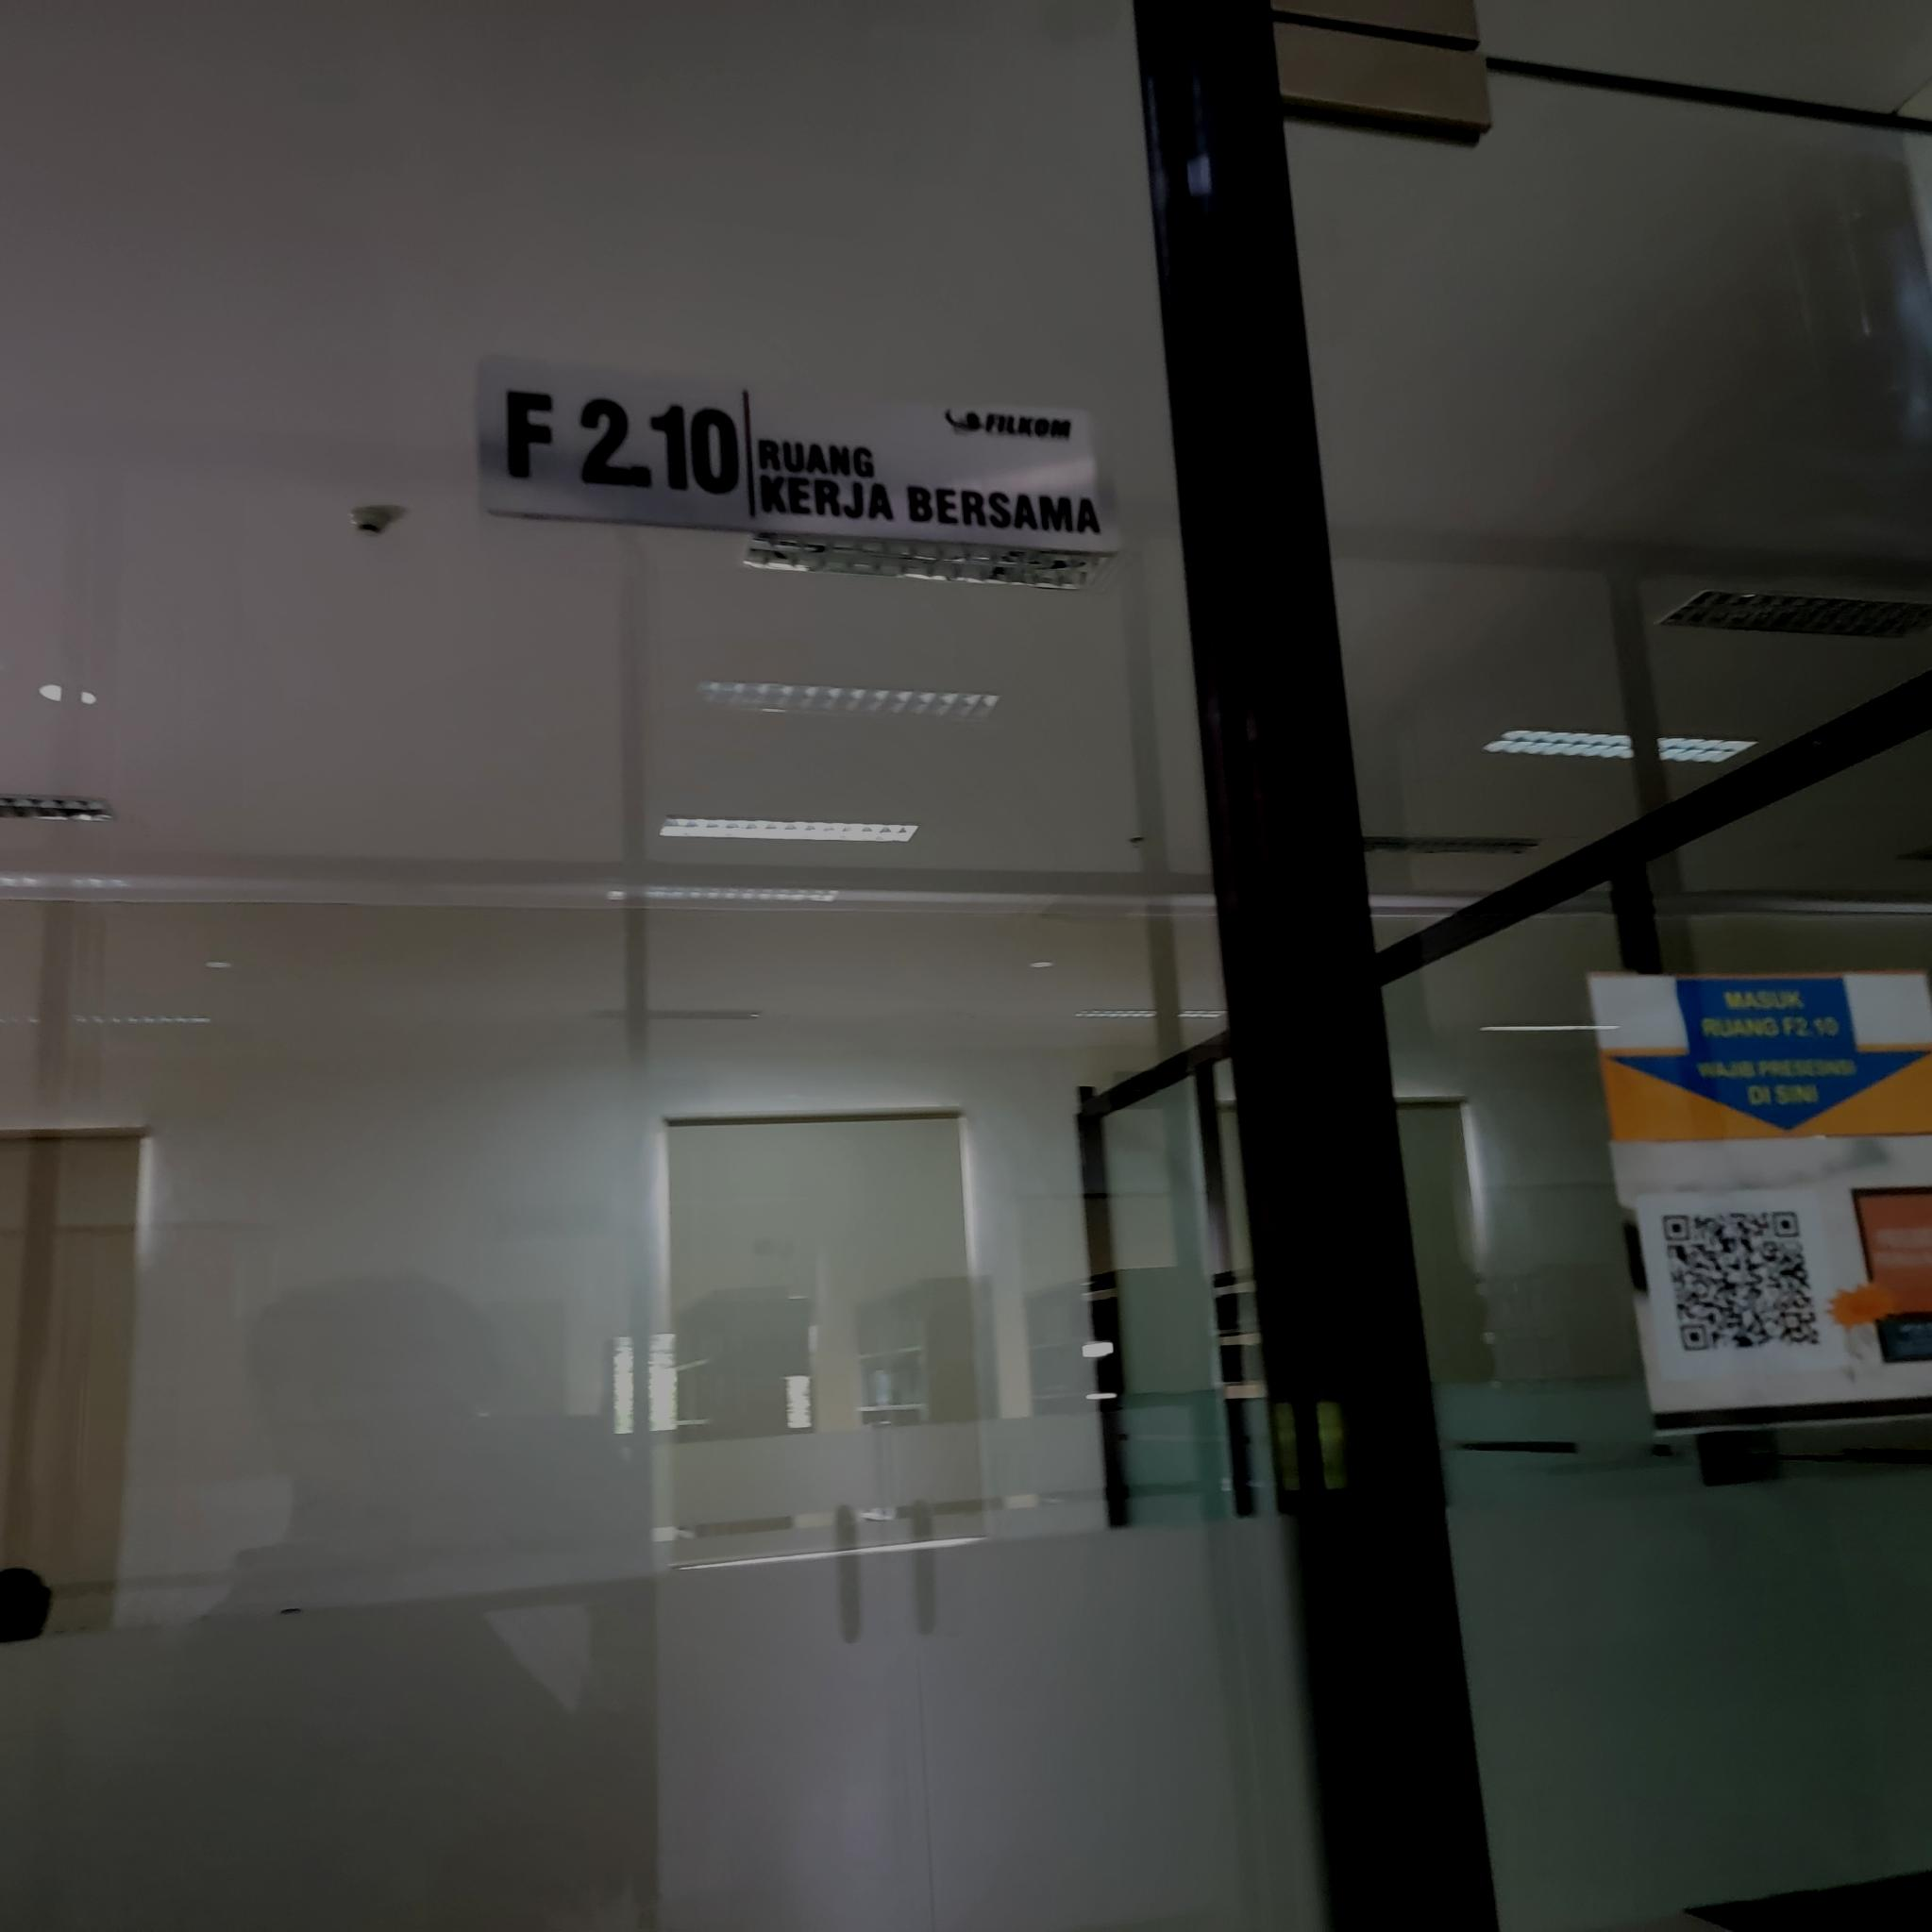plate: (474, 347, 1120, 556)
